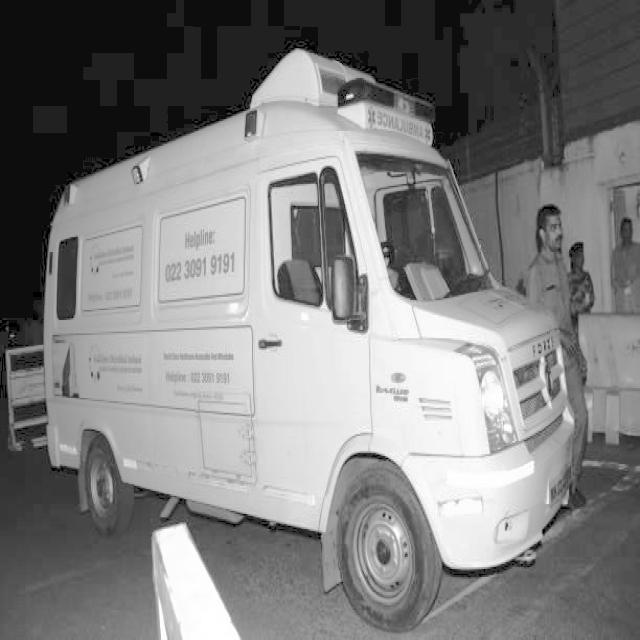Ambulance: (49, 172, 256, 424), (362, 98, 434, 161), (237, 99, 263, 153)
